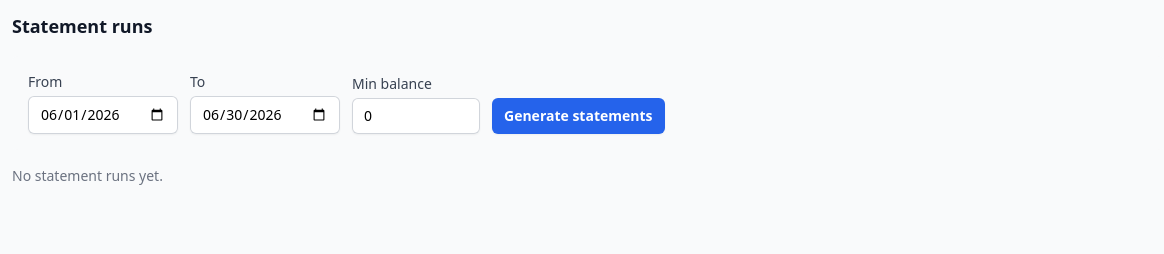
Test: StatementRunsReport › blocks generation when From is after To
In the date field labelled "From": [103, 115] box [28,96,178,134], type "2026-05-10"
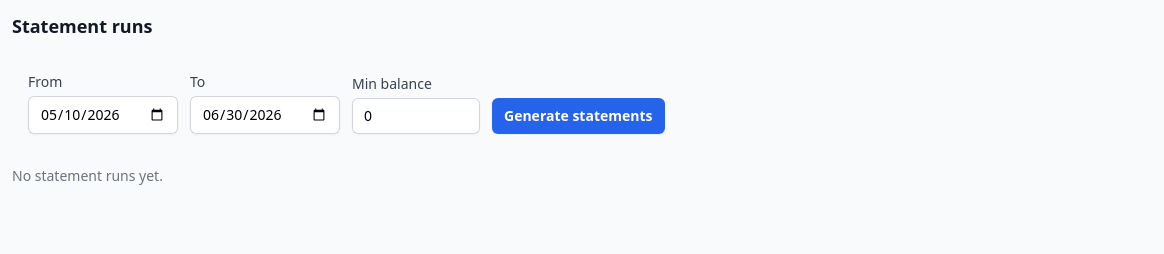
In the date field labelled "To": [265, 115] box [190,96,340,134], type "2026-04-01"
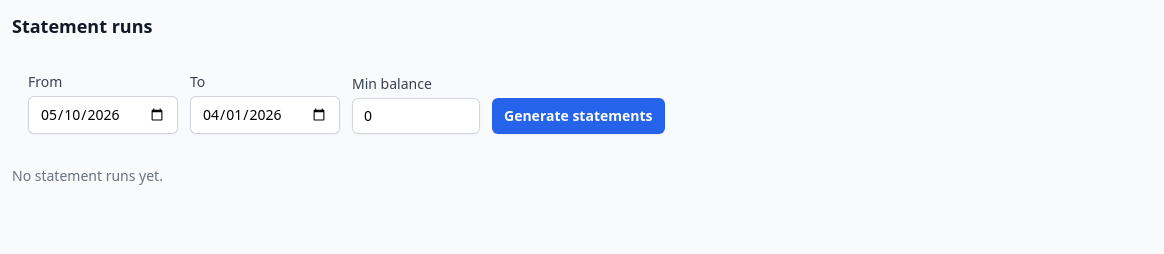
Click the button "Generate statements": [578, 116] box [492,98,664,134]
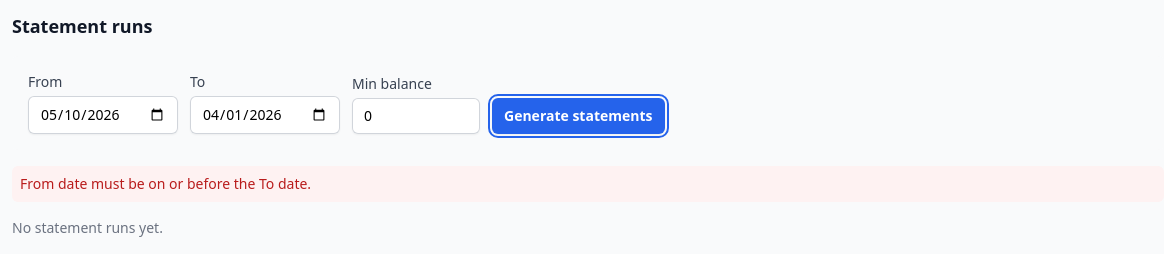
Expected: the text "From date must be on or before the To date." is shown, [12,166,1163,202]
